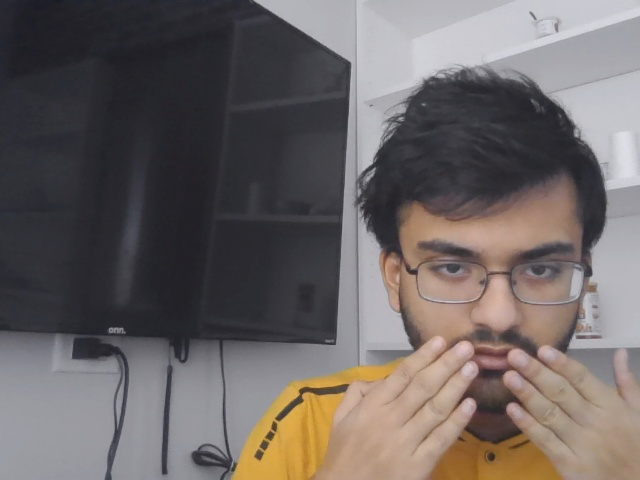ThankYou: (324, 334, 640, 480)
